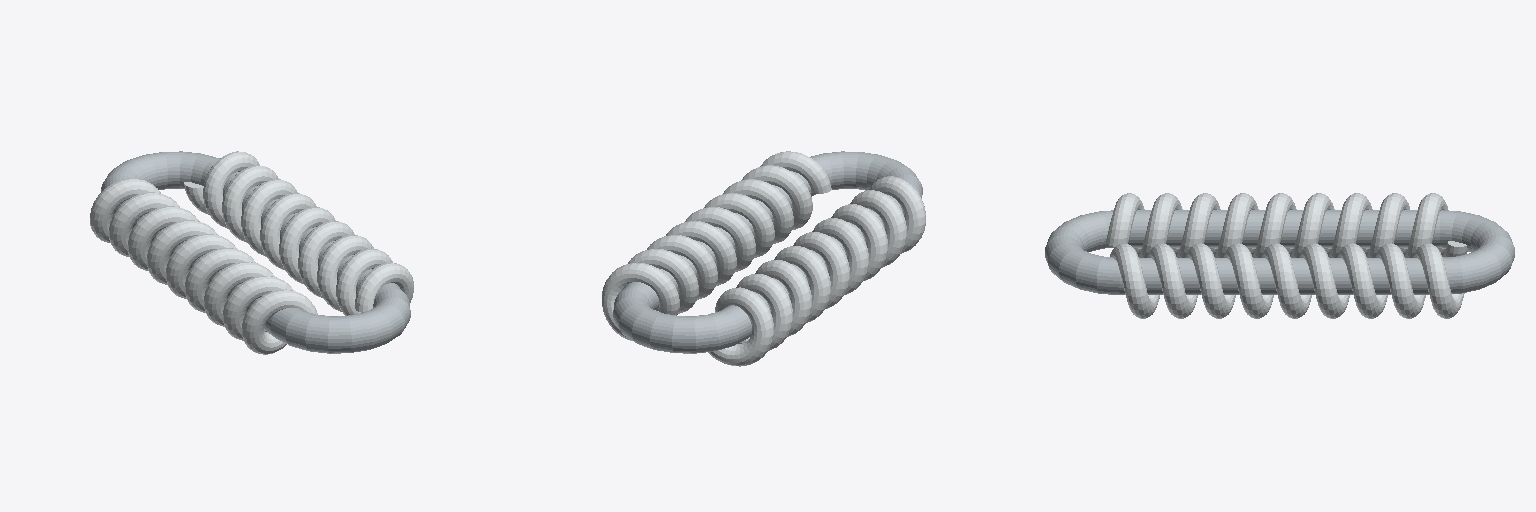
Rendered from tinker.obj.
3 views of the same model, side by side, from view 1: azimuth 30°, elevation 25°; view 2: azimuth 150°, elevation 25°; view 3: azimuth 270°, elevation 25° (orthographic).
Visible parts, largest first — view 1: obj_0; view 2: obj_0; view 3: obj_0.
Boxes of the visible parts, <box> form: obj_0: <box>90,151,413,354</box>; obj_0: <box>602,151,925,366</box>; obj_0: <box>1045,193,1514,318</box>.
Bounding box in the file's own units: 26 × 10.15 × 62.5.